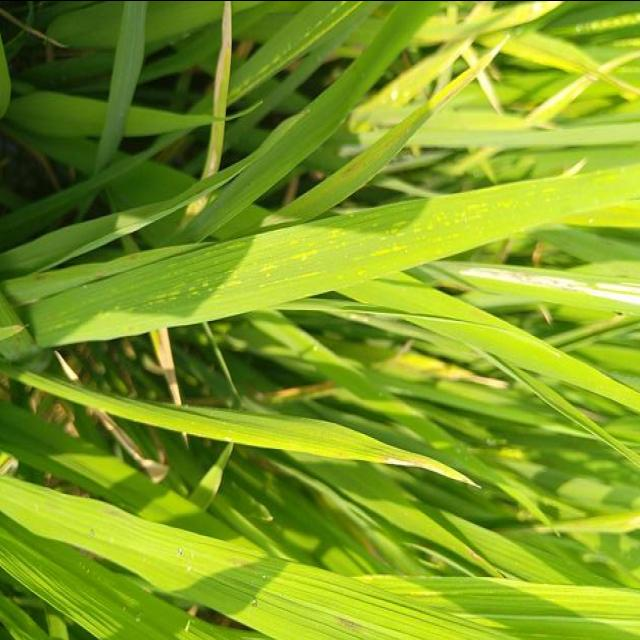Leaf Streak: (116, 180, 527, 319), (462, 266, 640, 302), (200, 0, 232, 180), (153, 328, 179, 404), (185, 196, 209, 221)
